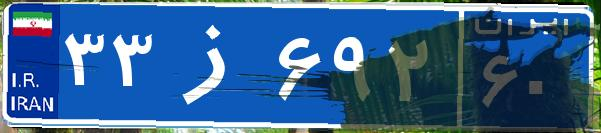0: (525, 38, 570, 115)
2: (385, 28, 445, 110)
3: (57, 26, 110, 107), (110, 28, 158, 105)
6: (273, 28, 330, 110), (475, 38, 525, 113)
9: (330, 28, 385, 110)
ز: (158, 15, 273, 115)
